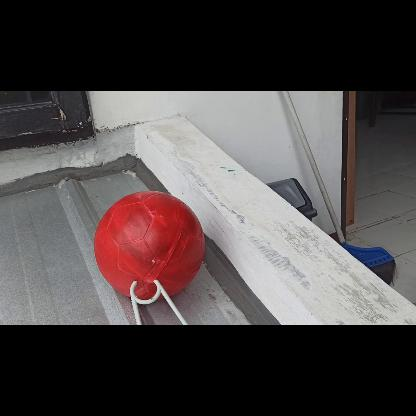red_ball: (92, 188, 204, 300)
